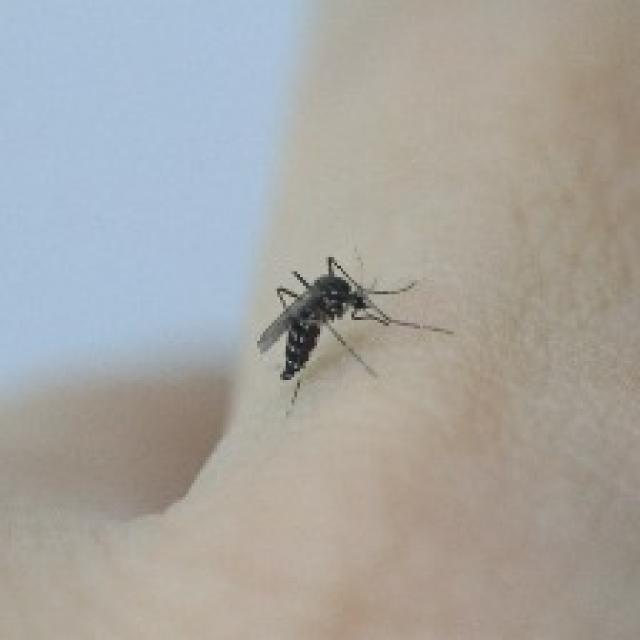aedes: (252, 251, 454, 406)
